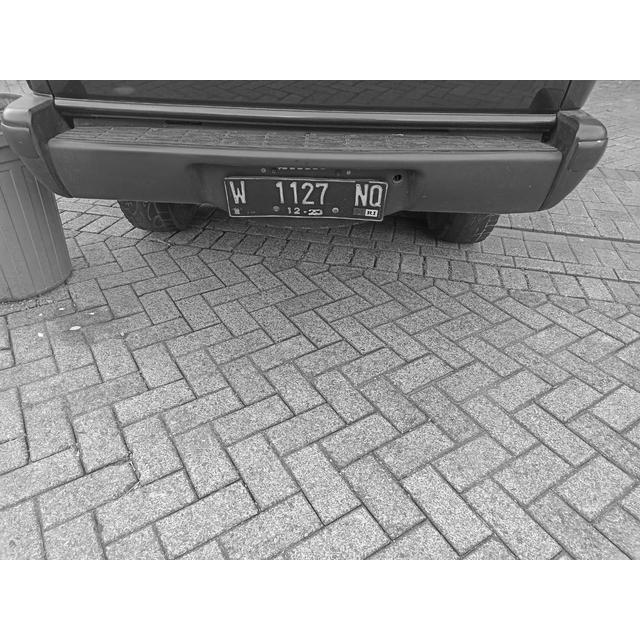license: (228, 179, 383, 216)
